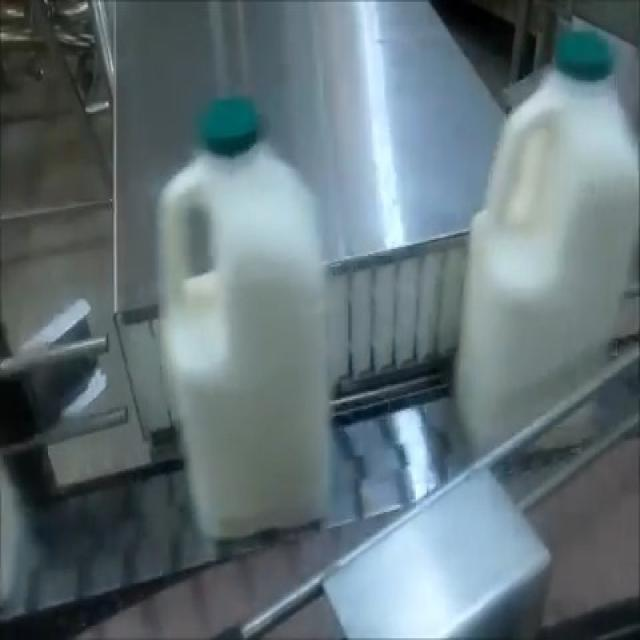green: (134, 86, 336, 540), (450, 31, 633, 462)
